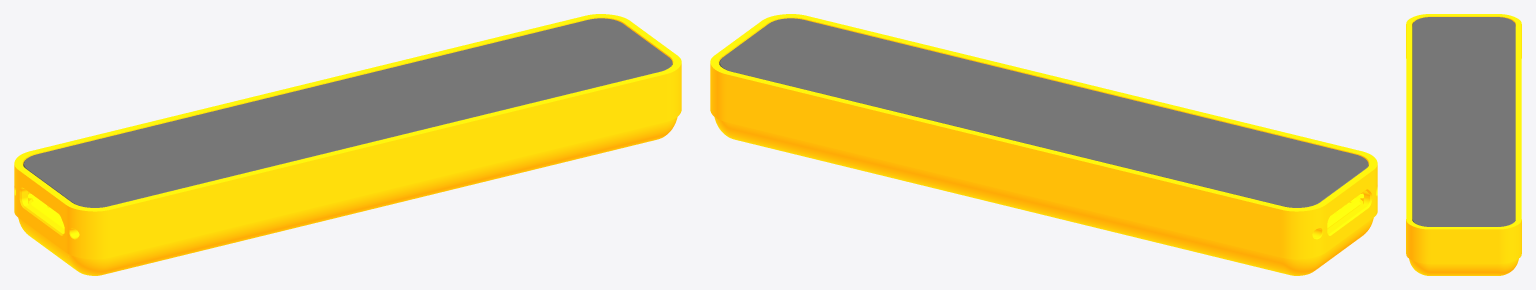
Rendered from tracking_camera.dae.
The picture shows the model from 3 angles, left to right: view 1: azimuth 30°, elevation 25°; view 2: azimuth 150°, elevation 25°; view 3: azimuth 270°, elevation 25°; orthographic projection. The views are drawn at different scales.
Visible parts, largest first — view 1: REAR_HOUSING_T265_27, COVER_WINDOW_15; view 2: REAR_HOUSING_T265_27, COVER_WINDOW_15, CONN_RECEPT_3-0MM_34POS_PWR__3; view 3: COVER_WINDOW_15, REAR_HOUSING_T265_27.
Part boxes in pixels (x1=…): REAR_HOUSING_T265_27: x1=14, y1=14, x2=681, y2=275; COVER_WINDOW_15: x1=23, y1=18, x2=672, y2=207; REAR_HOUSING_T265_27: x1=710, y1=14, x2=1377, y2=275; COVER_WINDOW_15: x1=719, y1=18, x2=1368, y2=207; CONN_RECEPT_3-0MM_34POS_PWR__3: x1=1327, y1=193, x2=1363, y2=228; COVER_WINDOW_15: x1=1412, y1=17, x2=1515, y2=226; REAR_HOUSING_T265_27: x1=1406, y1=14, x2=1521, y2=275.
Size of the model in its own units: 0.108 by 0.0245 by 0.0125.
